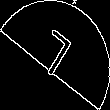L_SW: (32, 25, 78, 85)
